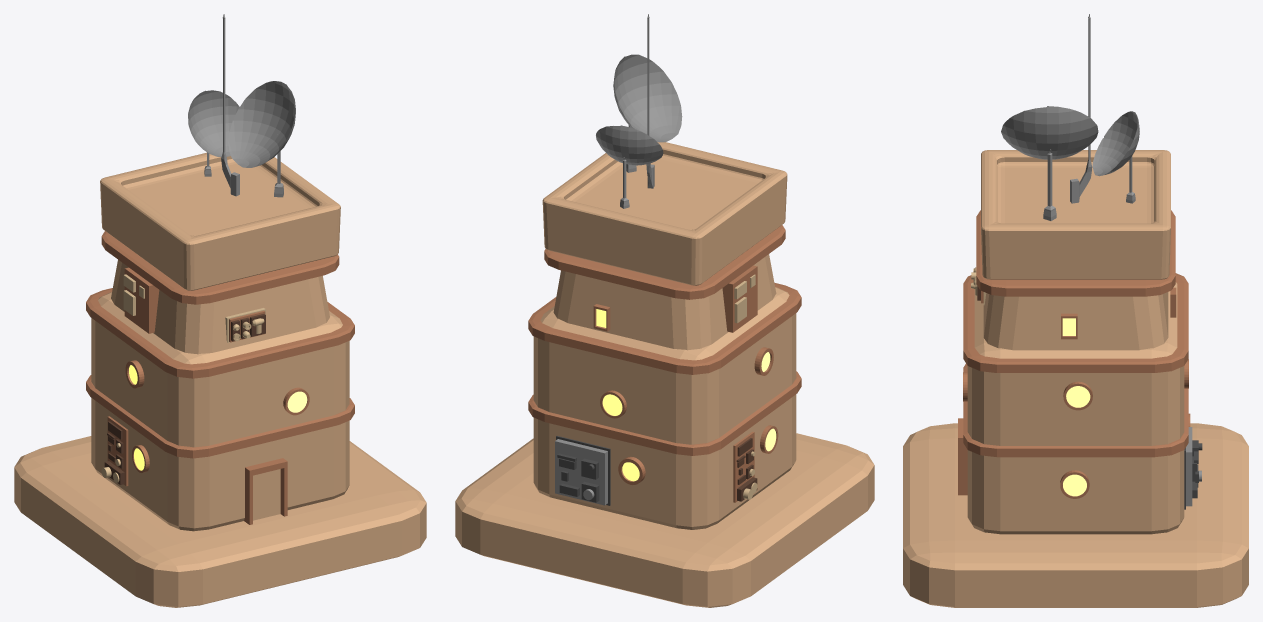
File: nomad_building_23.fbx
The picture shows the model from 3 angles, left to right: view 1: azimuth 30°, elevation 25°; view 2: azimuth 150°, elevation 25°; view 3: azimuth 270°, elevation 25°; orthographic projection. The views are drawn at different scales.
Parts seen in each view (by area): view 1: B23_M_Foundation_square, B23_M_R20_roof_simple, B23_M_Blk10_base, B23_M_Blk00_base, B23_M_Blk20_Cube004, B23_M_B10_Band_square_diameter_default, B23_M_Dish0_AntennaDish_Reflector, B23_M_B20_Band_square_diameter_default, B23_M_B00_Band_square_diameter_default, B23_M_Dish1_AntennaDish_Reflector, B23_M_Door_Door_Leaf, B23_M_Panel1_PanelBox_Body (+3 smaller); view 2: B23_M_Foundation_square, B23_M_R20_roof_simple, B23_M_Blk10_base, B23_M_Blk00_base, B23_M_Blk20_Cube004, B23_M_B10_Band_square_diameter_default, B23_M_B20_Band_square_diameter_default, B23_M_Dish0_AntennaDish_Reflector, B23_M_B00_Band_square_diameter_default, B23_M_Dish1_AntennaDish_Reflector, B23_M_Panel2_MeterBox_Face001, B23_M_Panel1_PanelBox_Body (+2 smaller); view 3: B23_M_Foundation_square, B23_M_R20_roof_simple, B23_M_Blk10_base, B23_M_Blk00_base, B23_M_Blk20_Cube004, B23_M_B10_Band_square_diameter_default, B23_M_B20_Band_square_diameter_default, B23_M_Dish0_AntennaDish_Reflector, B23_M_B00_Band_square_diameter_default, B23_M_Dish1_AntennaDish_Reflector, B23_M_Mast0_AntennaMast_Offset, B23_M_Door_Door_Frame (+2 smaller).
Part boxes in pixels (x1,y1,x2,y2): B23_M_Foundation_square: [14, 436, 426, 607]; B23_M_R20_roof_simple: [100, 152, 340, 290]; B23_M_Blk10_base: [91, 292, 349, 447]; B23_M_Blk00_base: [91, 398, 349, 531]; B23_M_Blk20_Cube004: [111, 260, 329, 354]; B23_M_B10_Band_square_diameter_default: [86, 288, 354, 378]; B23_M_Dish0_AntennaDish_Reflector: [228, 81, 295, 167]; B23_M_B20_Band_square_diameter_default: [101, 231, 339, 304]; B23_M_B00_Band_square_diameter_default: [86, 375, 354, 458]; B23_M_Dish1_AntennaDish_Reflector: [188, 90, 239, 156]; B23_M_Door_Door_Leaf: [253, 469, 280, 520]; B23_M_Panel1_PanelBox_Body: [124, 267, 159, 333]; B23_M_Foundation_square: [455, 433, 874, 607]; B23_M_R20_roof_simple: [542, 142, 787, 285]; B23_M_Blk10_base: [533, 287, 796, 444]; B23_M_Blk00_base: [533, 394, 796, 529]; B23_M_Blk20_Cube004: [553, 254, 776, 350]; B23_M_B10_Band_square_diameter_default: [528, 282, 801, 374]; B23_M_B20_Band_square_diameter_default: [544, 225, 785, 299]; B23_M_Dish0_AntennaDish_Reflector: [613, 54, 682, 142]; B23_M_B00_Band_square_diameter_default: [528, 371, 801, 455]; B23_M_Dish1_AntennaDish_Reflector: [596, 125, 663, 165]; B23_M_Panel2_MeterBox_Face001: [555, 439, 607, 505]; B23_M_Panel1_PanelBox_Body: [722, 265, 757, 332]; B23_M_Foundation_square: [903, 423, 1248, 607]; B23_M_R20_roof_simple: [981, 150, 1170, 279]; B23_M_Blk10_base: [967, 282, 1184, 445]; B23_M_Blk00_base: [967, 450, 1184, 534]; B23_M_Blk20_Cube004: [983, 292, 1168, 350]; B23_M_B10_Band_square_diameter_default: [963, 273, 1188, 372]; B23_M_B20_Band_square_diameter_default: [976, 210, 1175, 296]; B23_M_Dish0_AntennaDish_Reflector: [1001, 106, 1098, 159]; B23_M_B00_Band_square_diameter_default: [963, 363, 1188, 457]; B23_M_Dish1_AntennaDish_Reflector: [1092, 111, 1139, 176]; B23_M_Mast0_AntennaMast_Offset: [1070, 14, 1092, 203]; B23_M_Door_Door_Frame: [958, 418, 967, 495].
Bounding box in the file's own units: 254 × 432 × 254.
